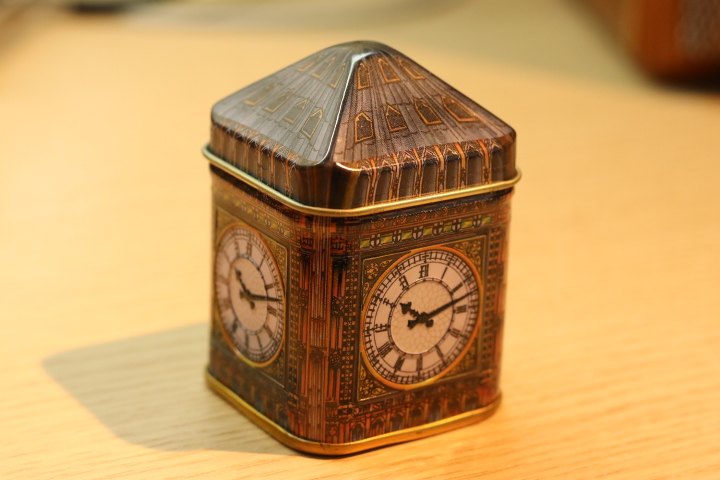Big Ben: (192, 30, 542, 466)
